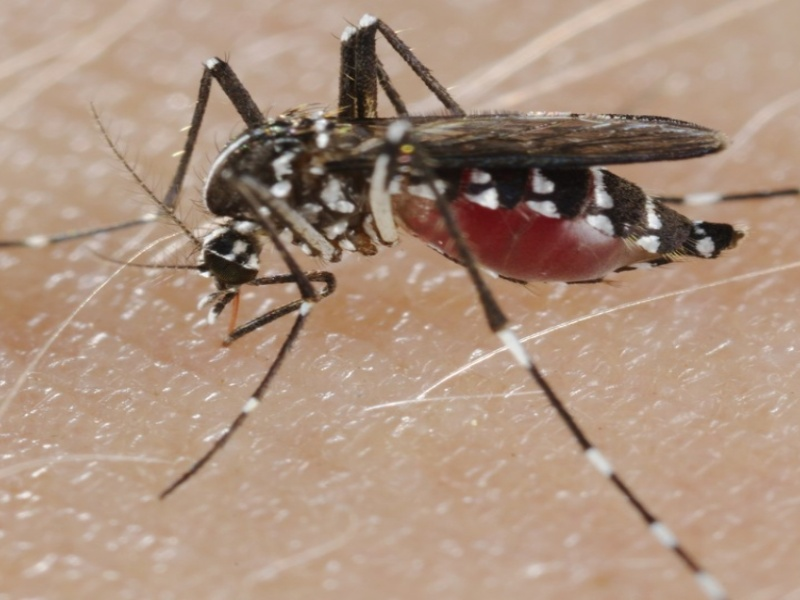dengue_mosquito: (193, 13, 734, 318)
